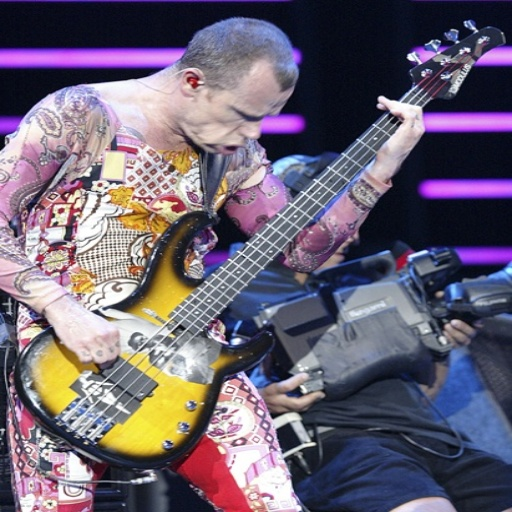hand: (43, 298, 123, 367), (373, 92, 427, 170), (427, 287, 485, 346), (261, 368, 321, 415)
